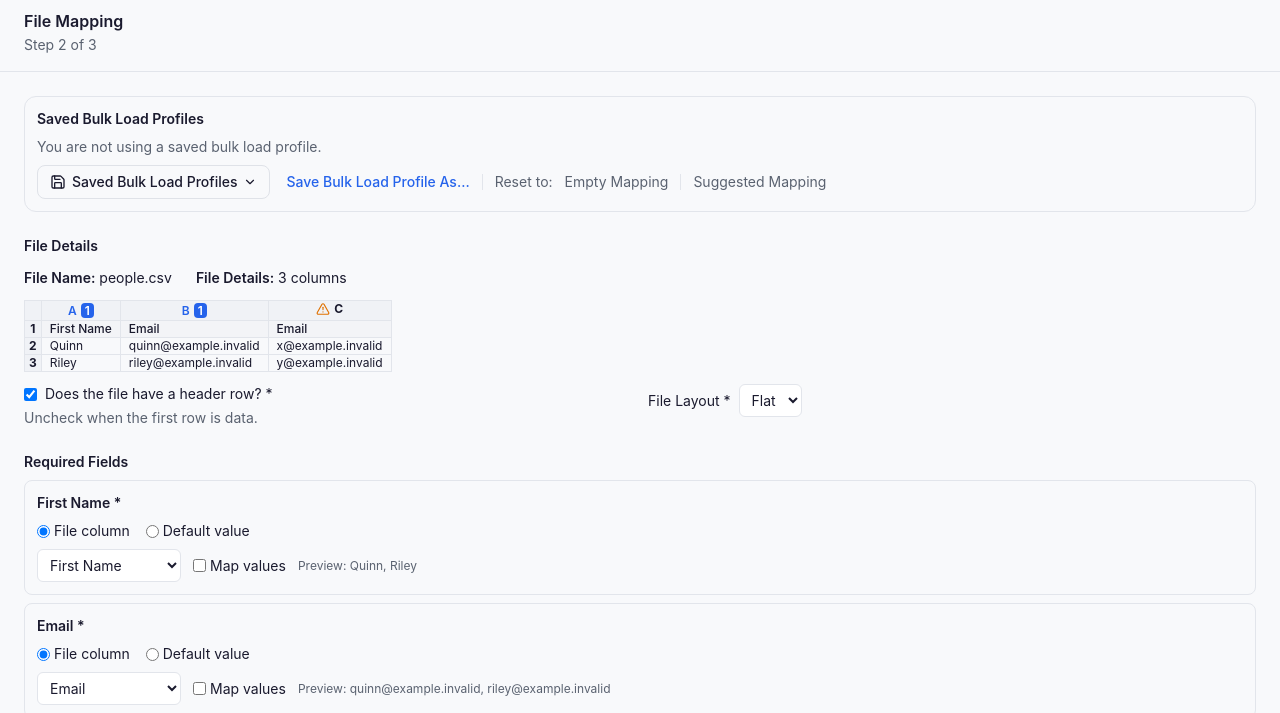
Test case: bulk load file mapping fidelity (#726) › warns about a repeated header, names mapped fields per column and clears a repeated-header mapping when headers are turned on
Expected: the text "Uncheck when the first row is data." is shown, left=24, top=409, right=258, bottom=426
Click the checkbox labelled "Does the file have a header row? *" at (30, 394), box left=24, top=388, right=37, bottom=400
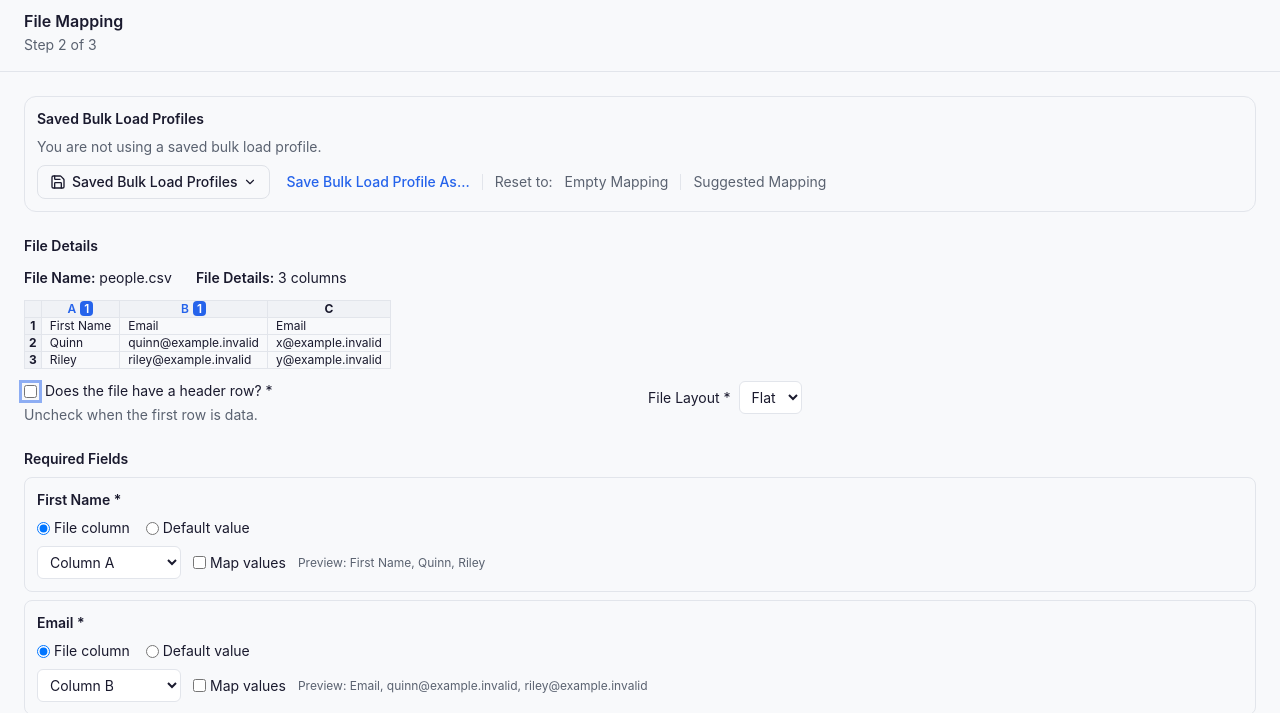
Select "Column C" in the dropdown named "Column for Email" at (109, 686), box left=37, top=669, right=181, bottom=702
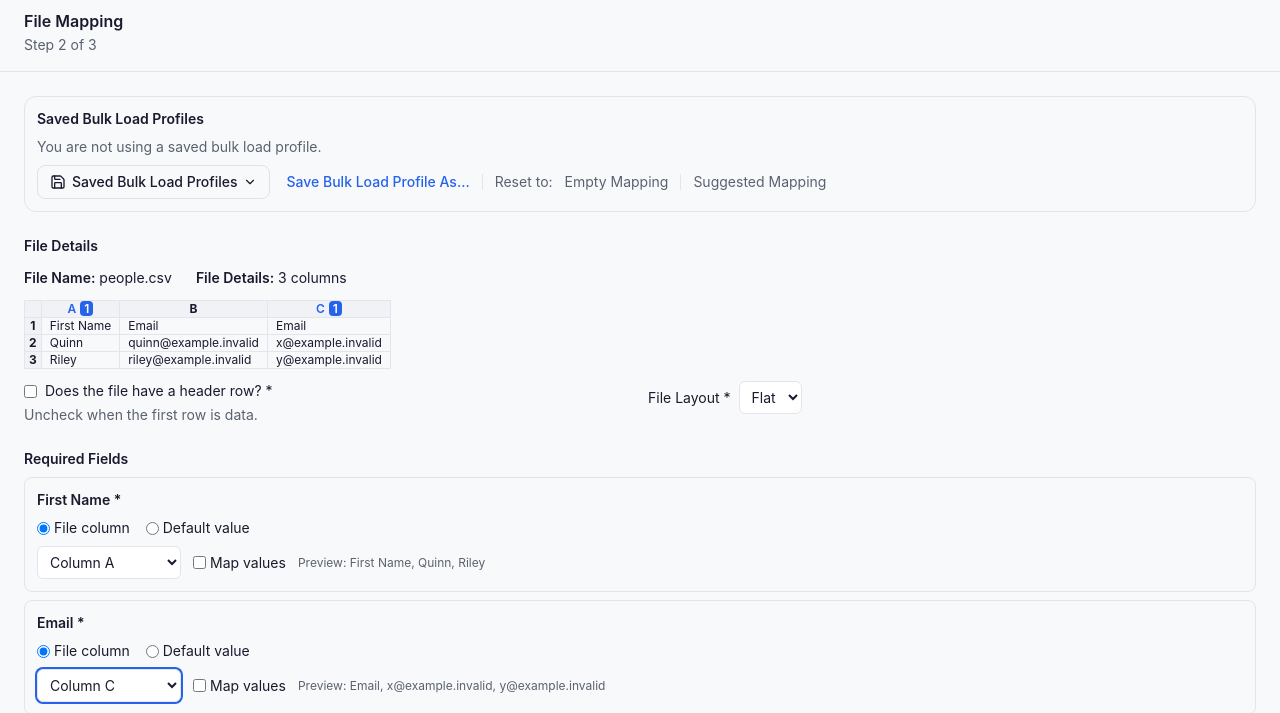
Click the checkbox labelled "Does the file have a header row? *" at (30, 391), box left=24, top=384, right=37, bottom=398
(page scrolled)
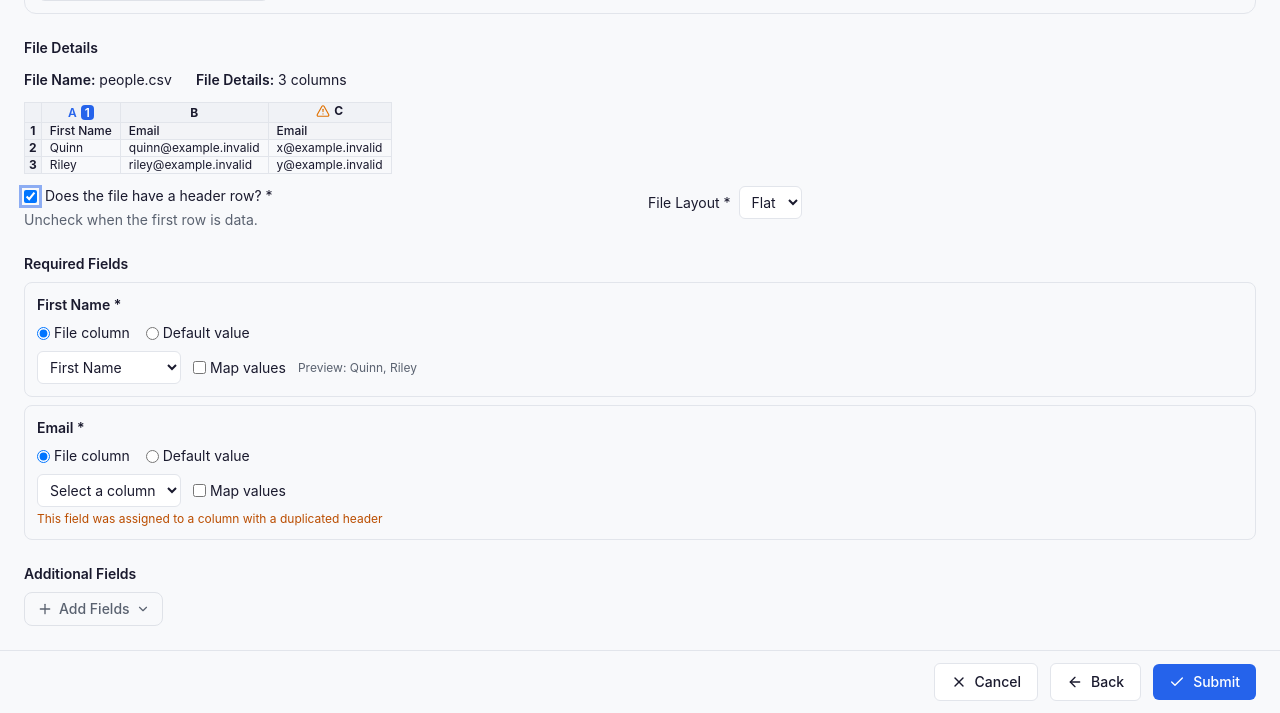
Expected: the text "This field was assigned to a column with a duplicated header" is shown, left=37, top=511, right=383, bottom=526
